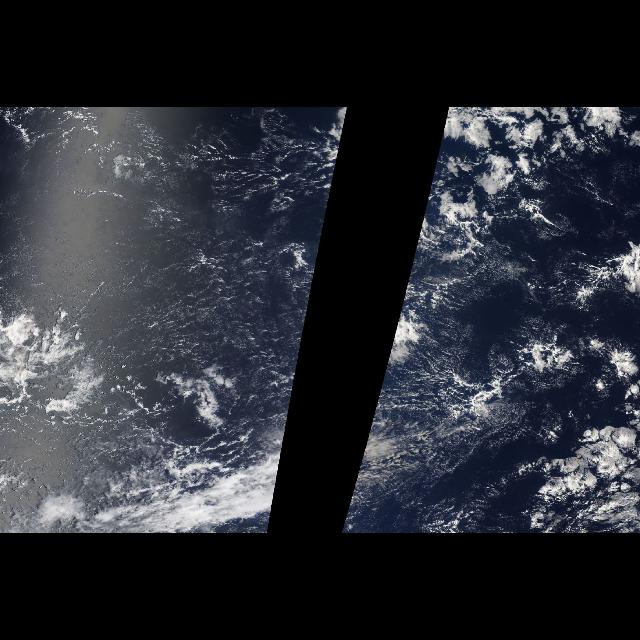Fish: (50, 427, 284, 533)
Flower: (414, 108, 634, 524)
Sugar: (0, 109, 292, 454)
